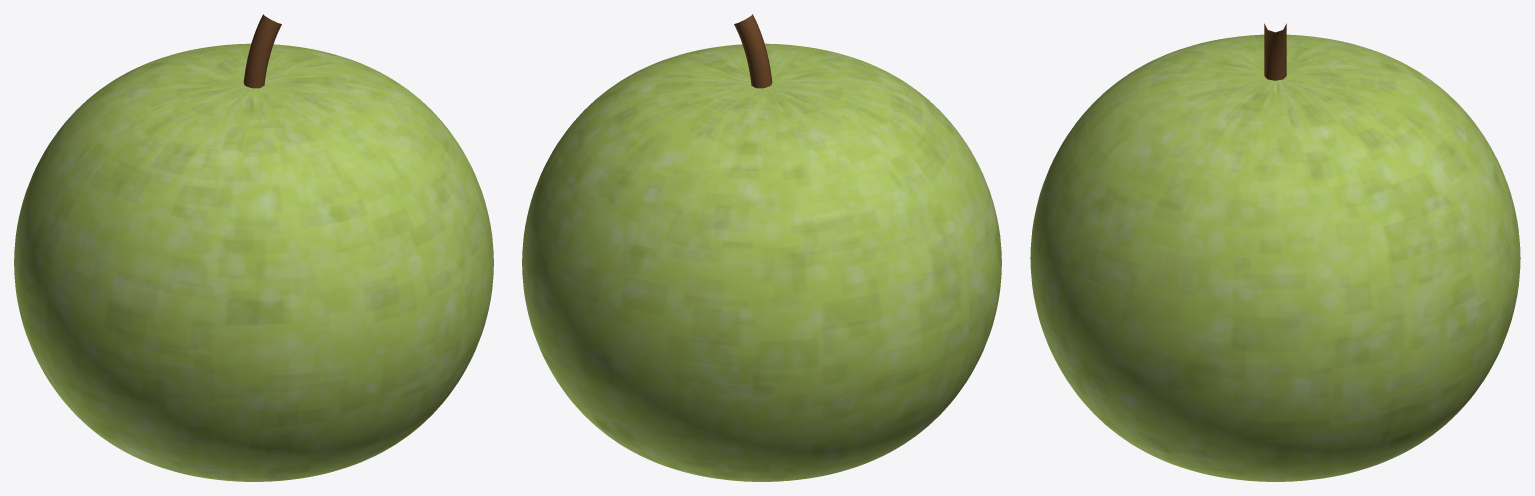
Rendered from greengage.glb.
3 views of the same model, side by side, from view 1: azimuth 30°, elevation 25°; view 2: azimuth 150°, elevation 25°; view 3: azimuth 270°, elevation 25° (orthographic). The views are drawn at different scales.
Size of the model in its own units: 0.17 by 0.1652 by 0.17.
Materials: 2 (1 with a texture image).
